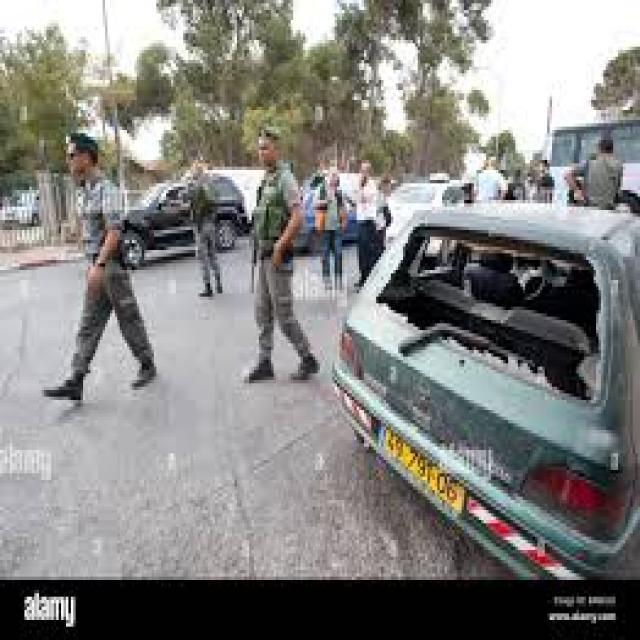damaged-rear-window: (384, 224, 613, 406)
